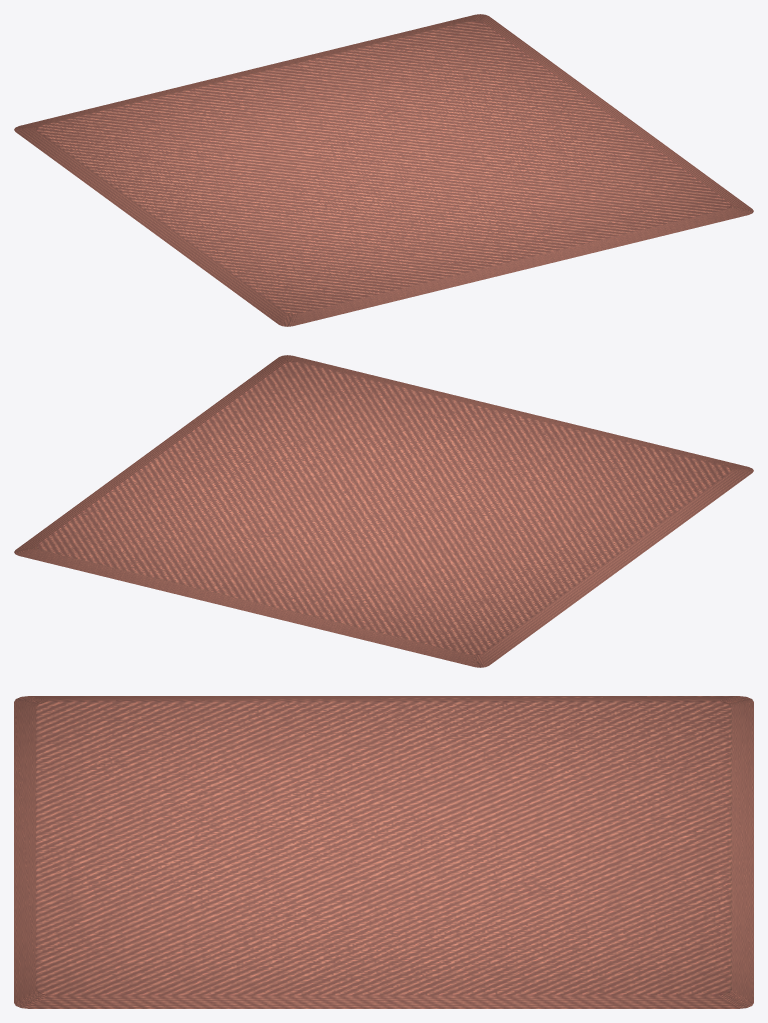
The model's file is AlfombraCuadrada.fbx.
3 views of the same model, one above another, from view 1: azimuth 30°, elevation 25°; view 2: azimuth 150°, elevation 25°; view 3: azimuth 270°, elevation 25° (orthographic). The views are drawn at different scales.
Parts seen in each view (by area): view 1: Alfombra; view 2: Alfombra; view 3: Alfombra.
Part boxes in pixels (x1,y1,x2,y2): Alfombra: (14, 14, 753, 326); Alfombra: (14, 355, 753, 667); Alfombra: (14, 696, 753, 1008).
Bounding box in the file's own units: 361 × 2.27 × 361.
